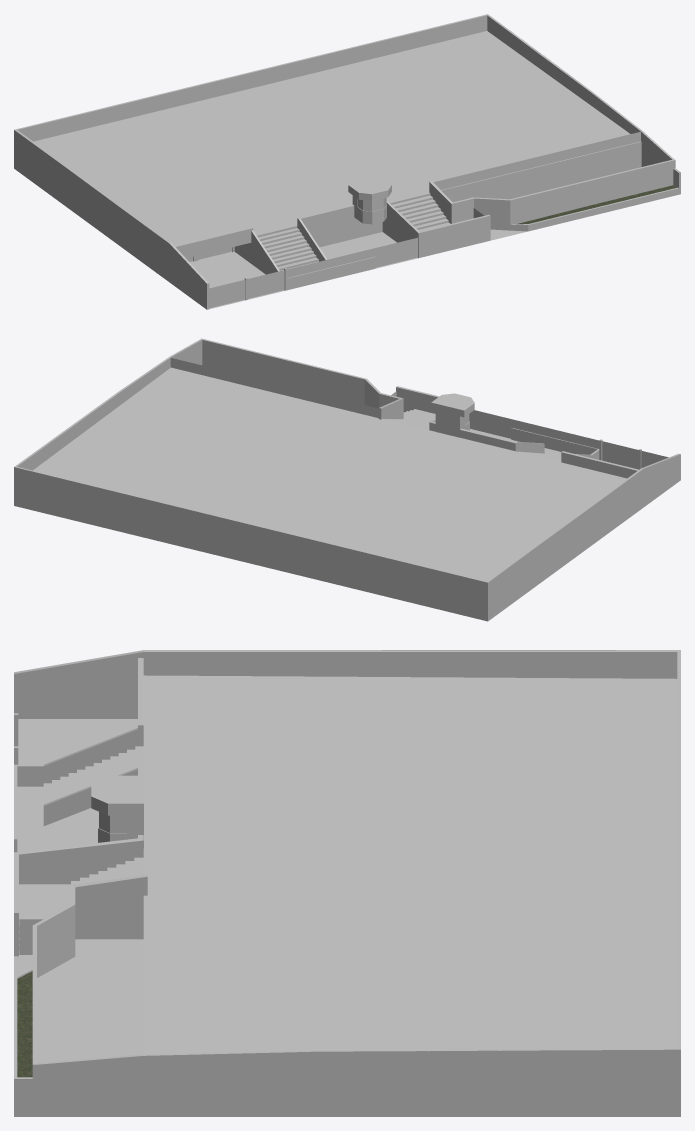
3 renders of one model, top to bottom at view 1: azimuth 30°, elevation 25°; view 2: azimuth 150°, elevation 25°; view 3: azimuth 270°, elevation 25°, orthographic. The views are drawn at different scales.
Parts seen in each view (by area): view 1: Base-12; view 2: Base-12; view 3: Base-12.
Part boxes in pixels (bbox=[...]): Base-12: bbox=[14, 14, 680, 309]; Base-12: bbox=[14, 338, 680, 621]; Base-12: bbox=[14, 650, 680, 1116].
Size of what is drawn, in the model's own units: 51.04 by 5.51 by 36.
